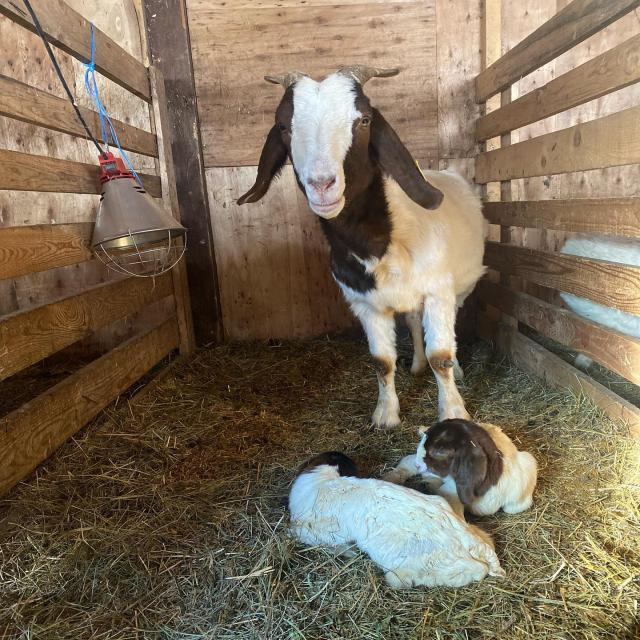goat: (232, 63, 498, 443), (283, 452, 508, 591), (390, 417, 555, 512)
